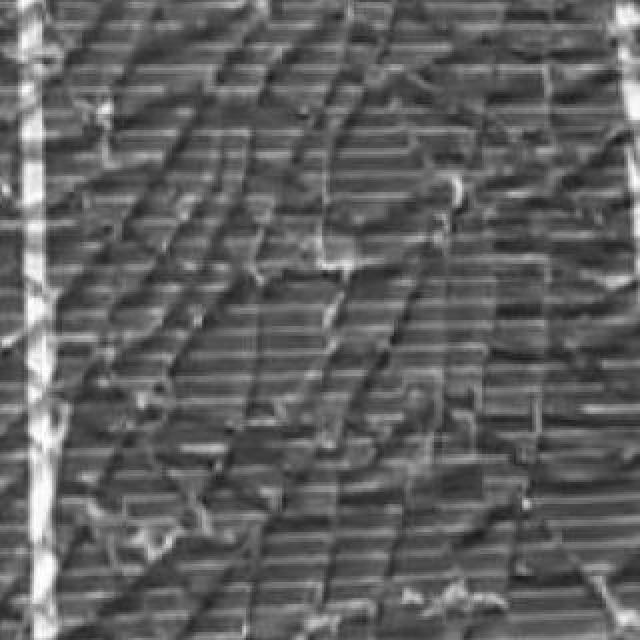Physical-damage: (49, 7, 629, 627)
